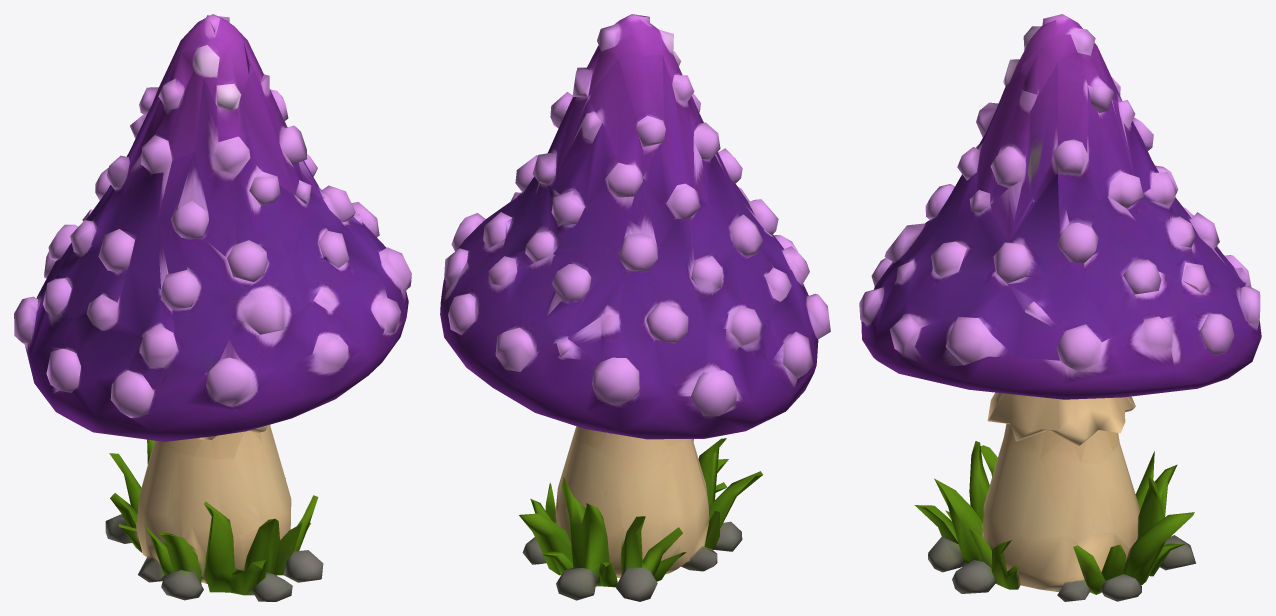
File: shroom_spotted.glb
The picture shows the model from 3 angles, left to right: view 1: azimuth 30°, elevation 25°; view 2: azimuth 150°, elevation 25°; view 3: azimuth 270°, elevation 25°; orthographic projection. The views are drawn at different scales.
Visible parts, largest first — view 1: tripo_node_fa63915f-ca78-4fd6-ae6a-f5e3b34e1282; view 2: tripo_node_fa63915f-ca78-4fd6-ae6a-f5e3b34e1282; view 3: tripo_node_fa63915f-ca78-4fd6-ae6a-f5e3b34e1282.
Boxes of the visible parts, <box> form: tripo_node_fa63915f-ca78-4fd6-ae6a-f5e3b34e1282: <box>14,14,411,601</box>; tripo_node_fa63915f-ca78-4fd6-ae6a-f5e3b34e1282: <box>440,14,830,601</box>; tripo_node_fa63915f-ca78-4fd6-ae6a-f5e3b34e1282: <box>859,14,1261,601</box>.
Bounding box in the file's own units: 0.8506 × 1.3 × 0.8628.
1 material, 1 textured.
